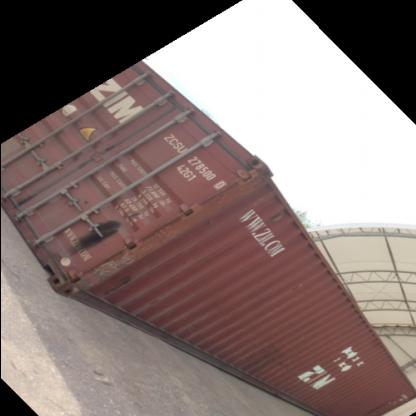Damage: (66, 209, 128, 254), (65, 254, 132, 294), (246, 338, 292, 378), (380, 392, 412, 412), (265, 208, 287, 224)
